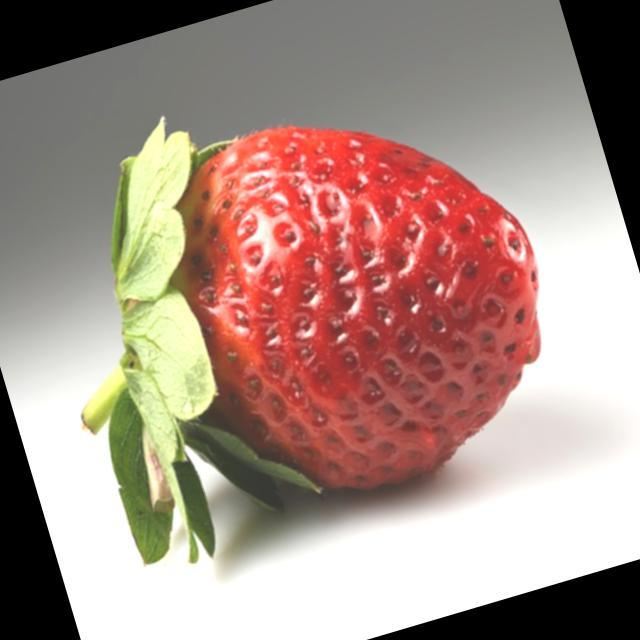strawberry: (82, 118, 540, 562)
